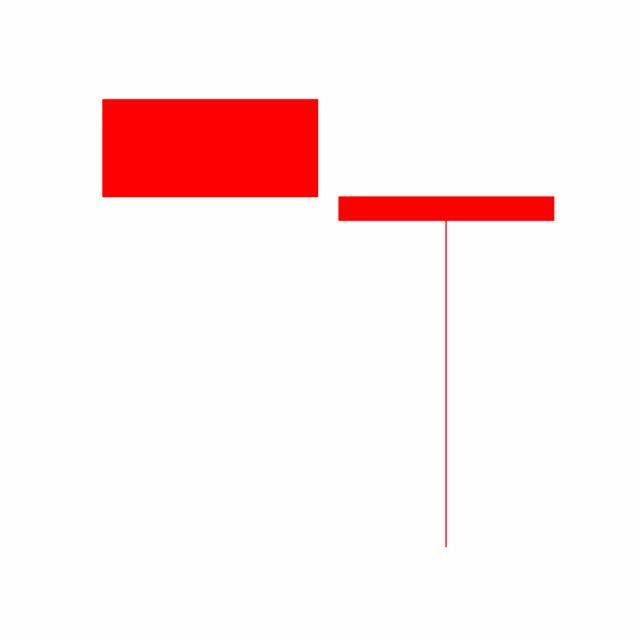Hammer: (328, 193, 566, 552)
